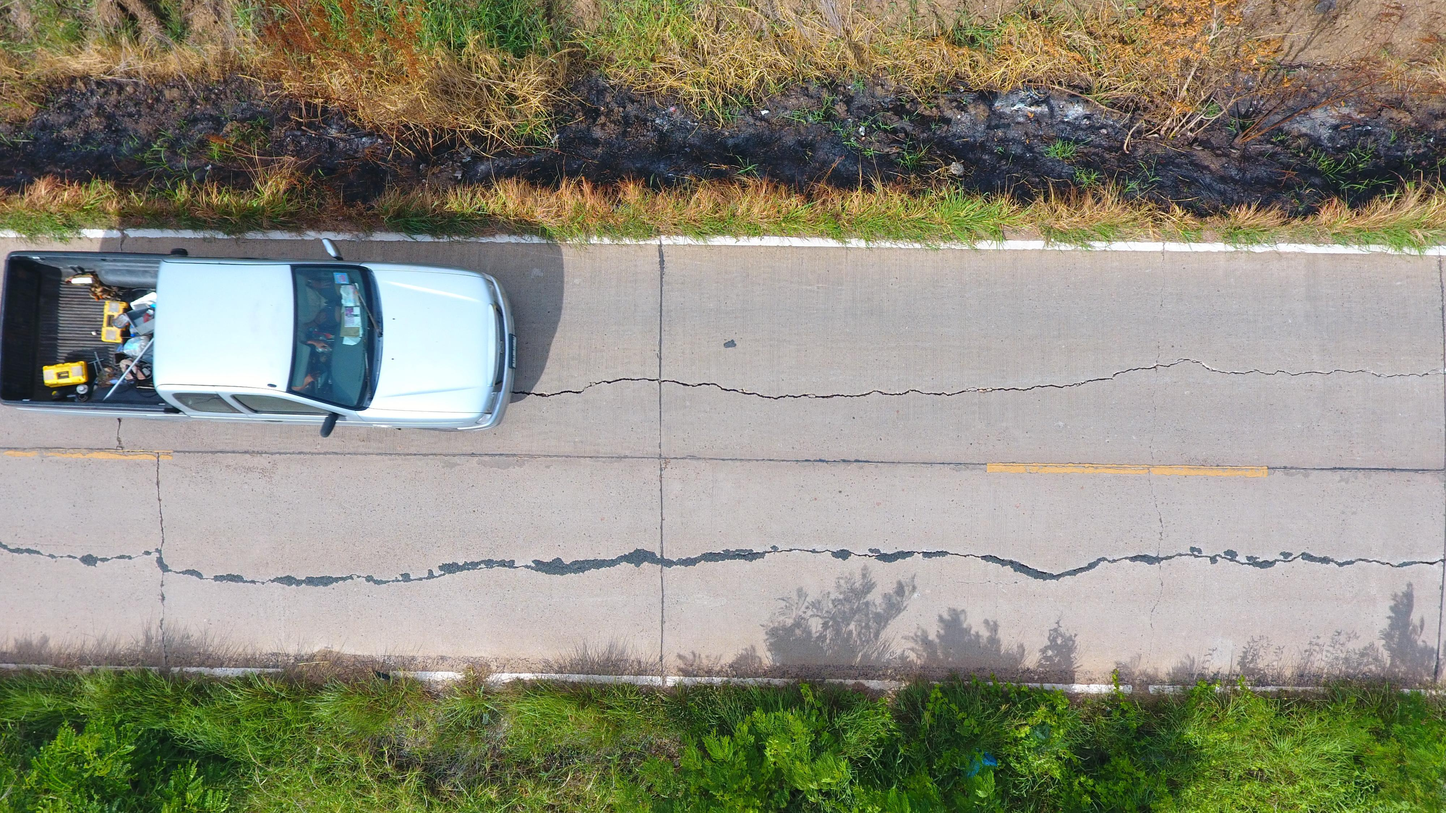GRIETA: (512, 358, 1446, 400), (663, 546, 1445, 581), (155, 549, 661, 587), (988, 462, 1446, 475), (0, 542, 162, 567), (662, 457, 987, 466), (362, 452, 659, 460), (1145, 565, 1164, 673), (162, 450, 361, 456), (0, 446, 157, 453), (659, 459, 664, 674), (1150, 486, 1164, 555), (659, 244, 665, 379), (156, 452, 164, 550), (160, 573, 167, 665), (1150, 389, 1157, 464), (1160, 242, 1166, 311), (659, 384, 662, 457), (116, 418, 123, 449)
